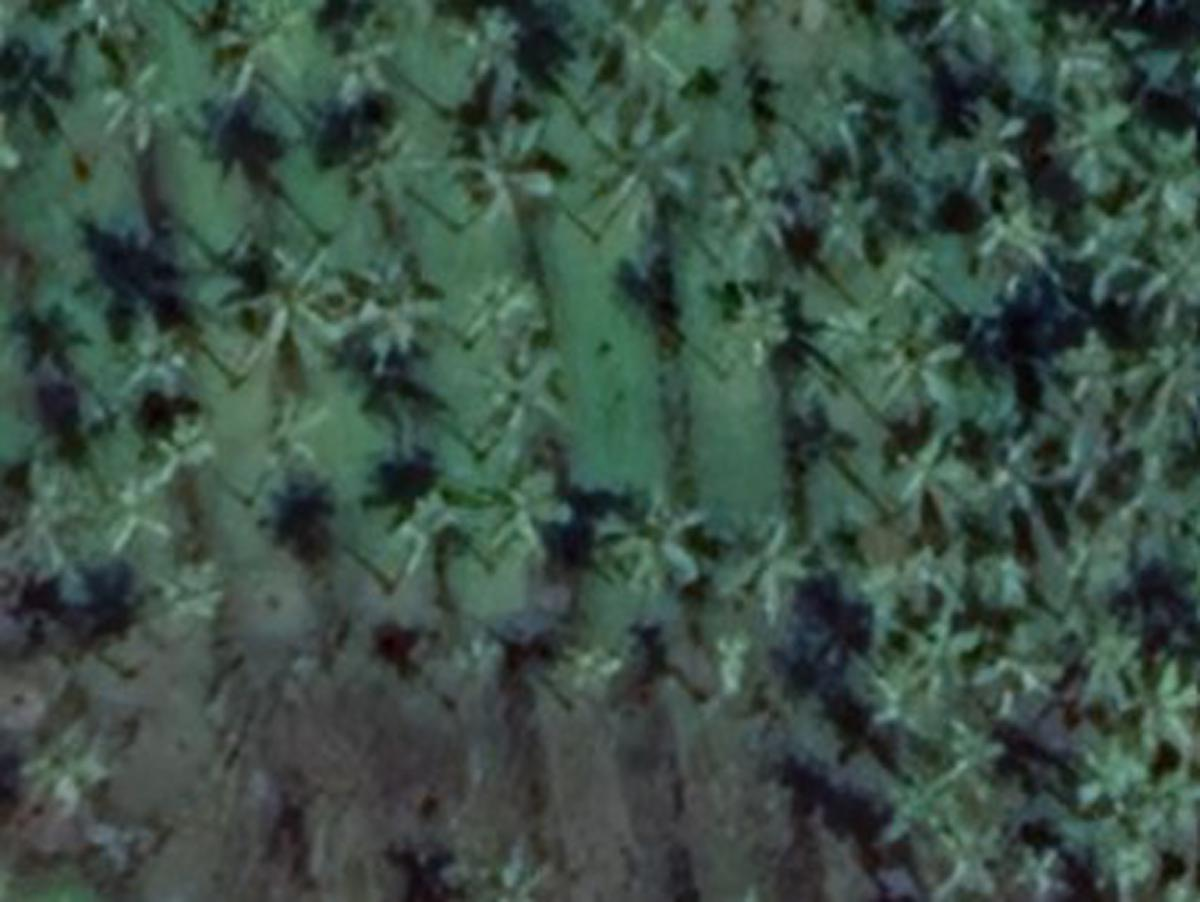coconut: (871, 418, 1007, 523), (582, 483, 703, 598), (229, 238, 353, 350), (449, 111, 561, 220), (716, 508, 815, 626), (880, 592, 992, 691), (468, 471, 573, 576), (331, 260, 440, 359), (877, 313, 976, 418), (548, 619, 654, 716), (96, 303, 204, 396), (955, 207, 1069, 294), (316, 18, 415, 117), (1057, 734, 1159, 830), (703, 154, 796, 257), (945, 99, 1038, 201), (207, 12, 313, 96), (586, 105, 688, 192), (465, 272, 564, 359), (1113, 337, 1200, 433), (341, 120, 431, 210), (1128, 654, 1200, 765), (480, 362, 586, 437), (93, 58, 182, 145), (127, 399, 223, 477), (979, 623, 1069, 703), (145, 554, 244, 626), (883, 743, 964, 827), (96, 480, 176, 564), (458, 15, 539, 96), (924, 812, 998, 898), (713, 282, 787, 362), (260, 393, 331, 471), (387, 489, 462, 561), (812, 176, 865, 266), (868, 226, 933, 297), (697, 635, 762, 694)
